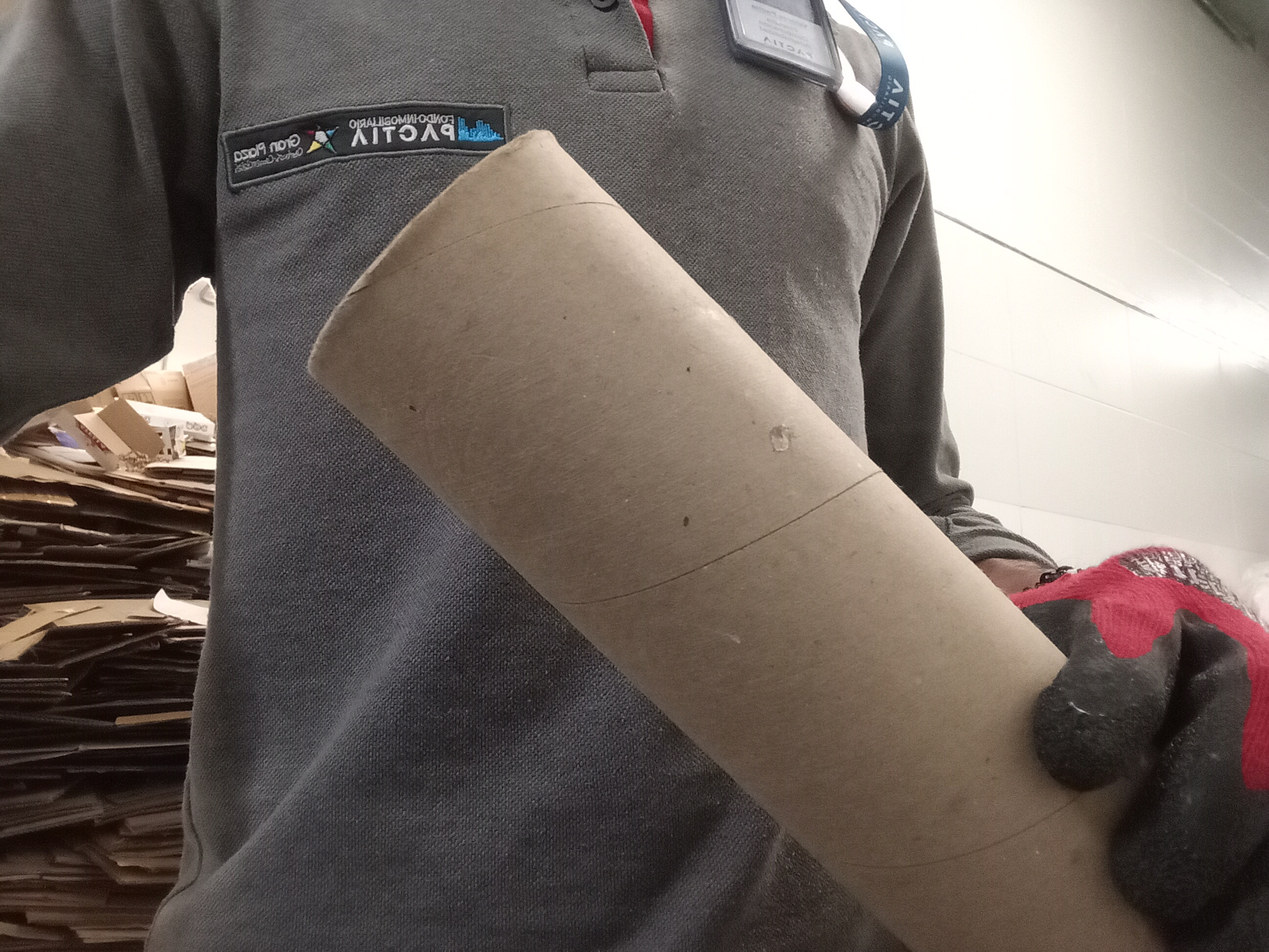Carton: (305, 126, 1172, 948)
